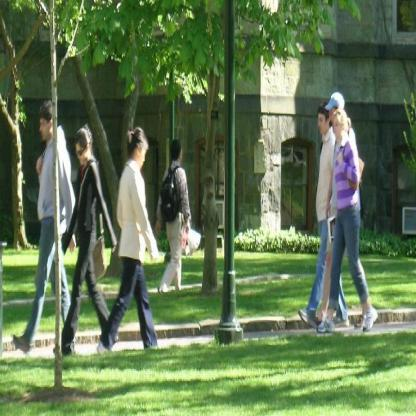person: (13, 98, 73, 350), (112, 120, 166, 356), (66, 114, 110, 351), (153, 135, 198, 293)
